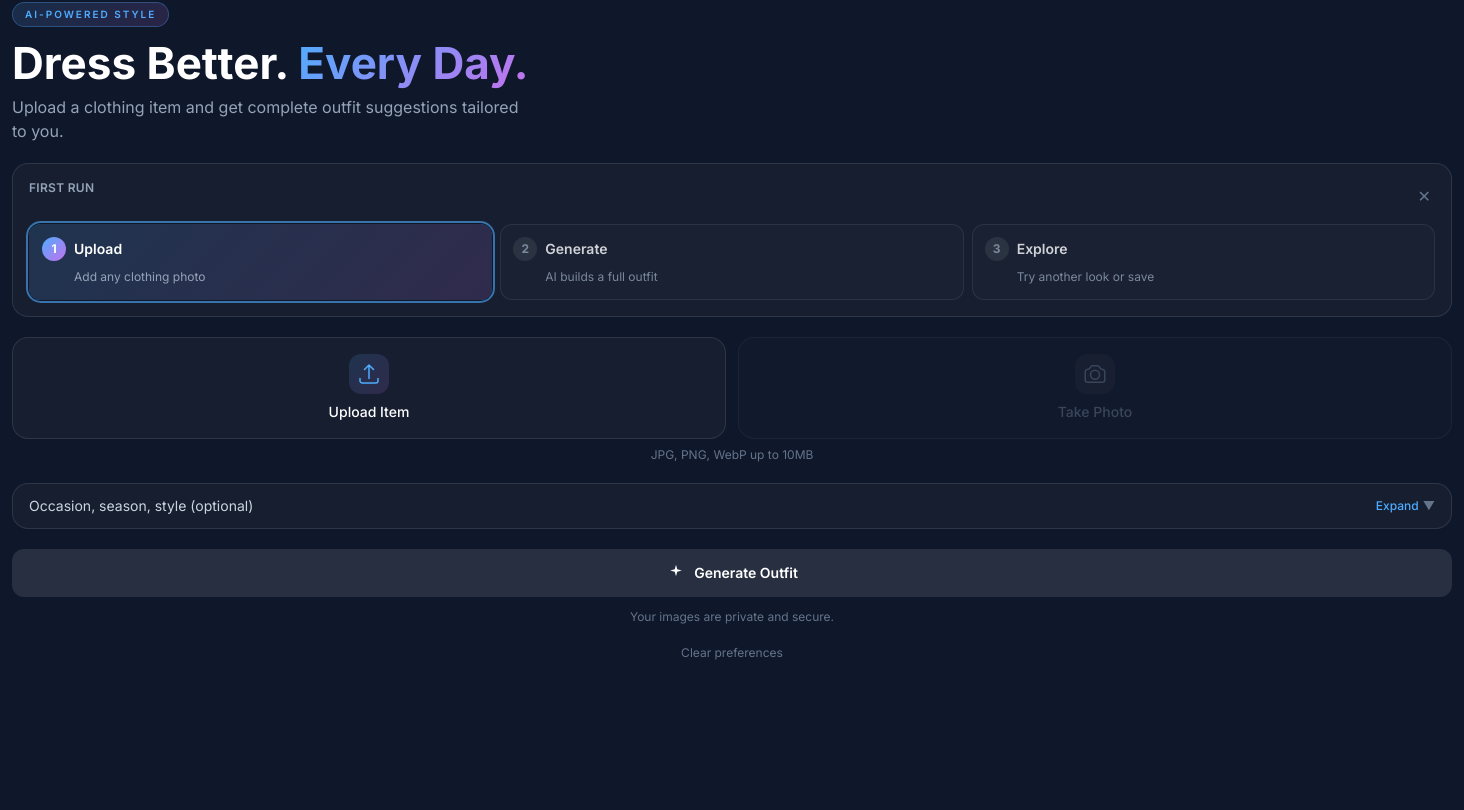
Scenario: Sidebar file validation › first-run coach and preferences › shows full preferences after coach dismiss
Click the button with test id "first-run-coach-dismiss": (1424,196) [1414,180,1435,212]
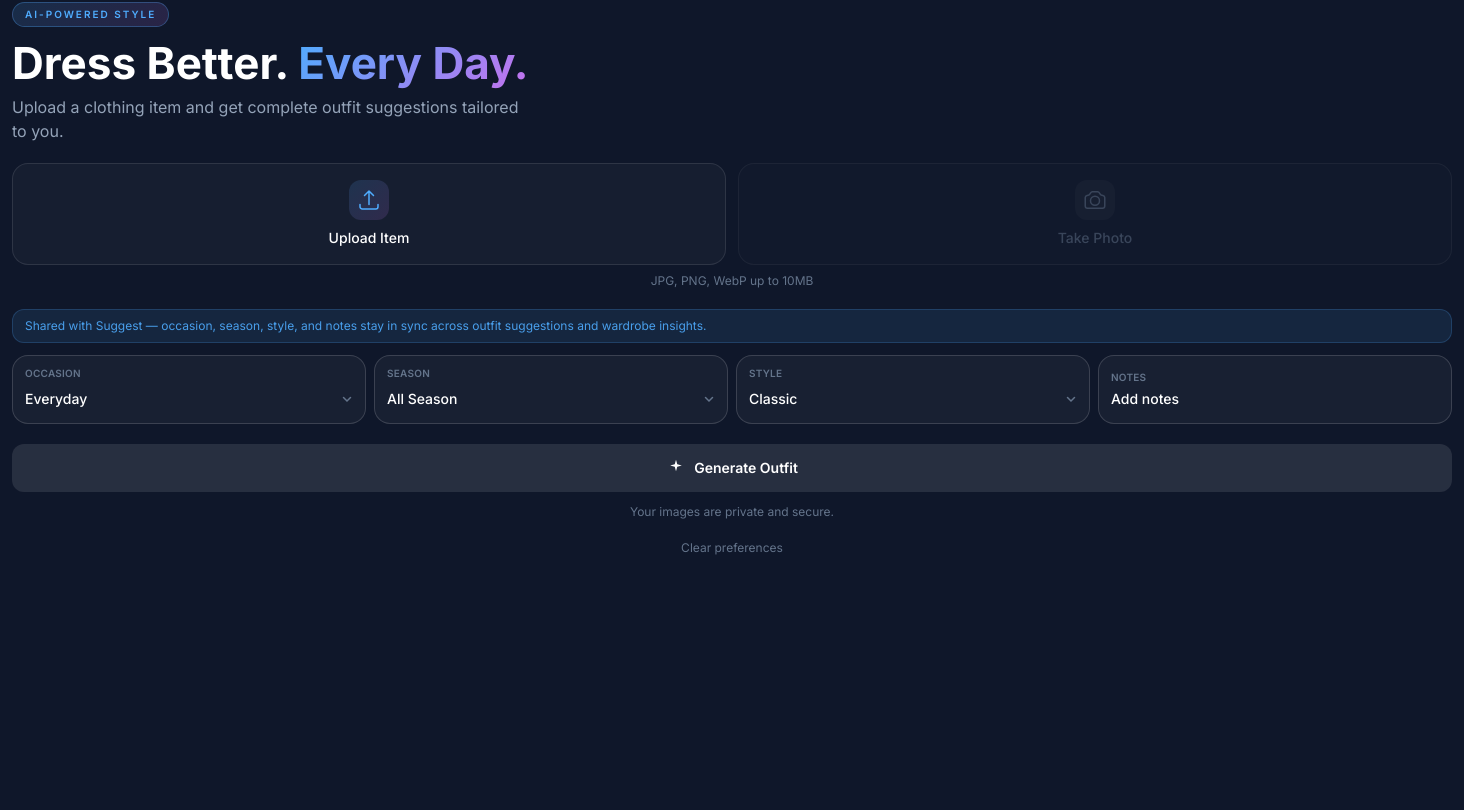
Now the button with test id "first-run-prefs-collapsed" is gone
Now the dropdown named "Select occasion" is shown, box [25,385,353,413]
